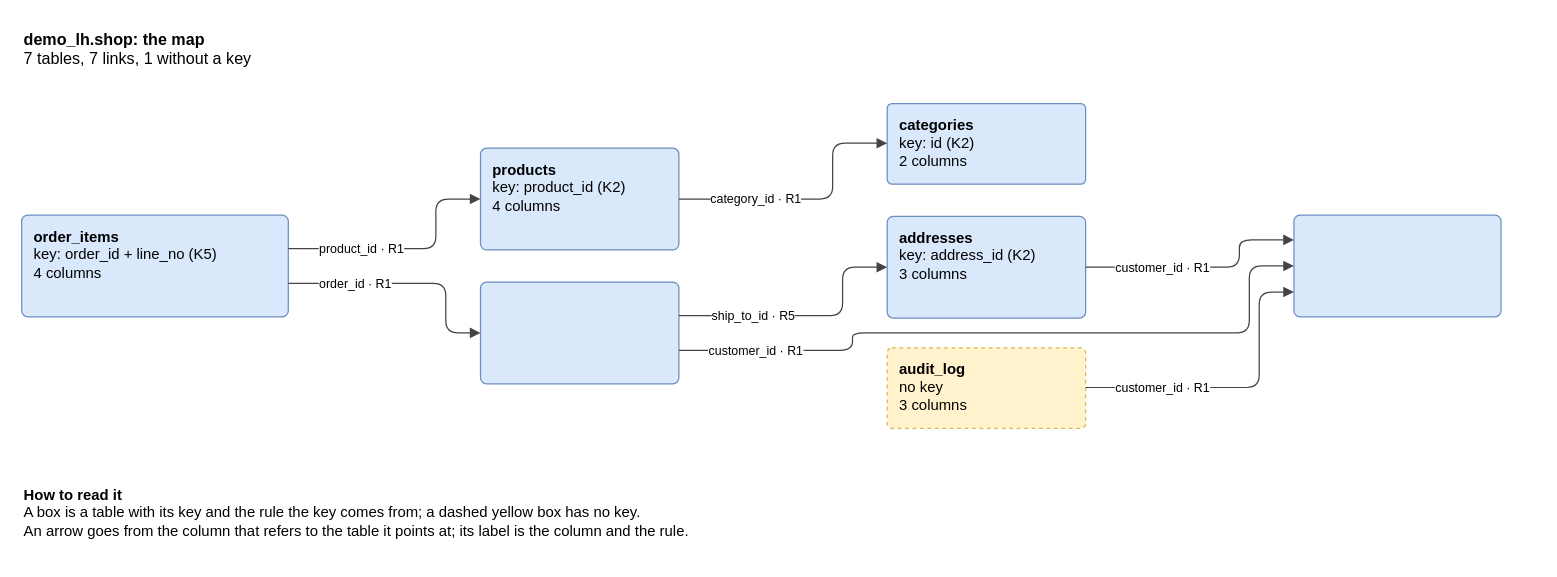
This 1557x577 diagram has some shape labels left out. The shapes that lost their labels are listed below. From the top down, each one's box as (x1, y1, x2, y2) in pixels, then its label:
(1293, 214, 1501, 317): customers key: customer_id (K2) 3 columns
(479, 281, 679, 384): orders key: order_id (K2) 4 columns
